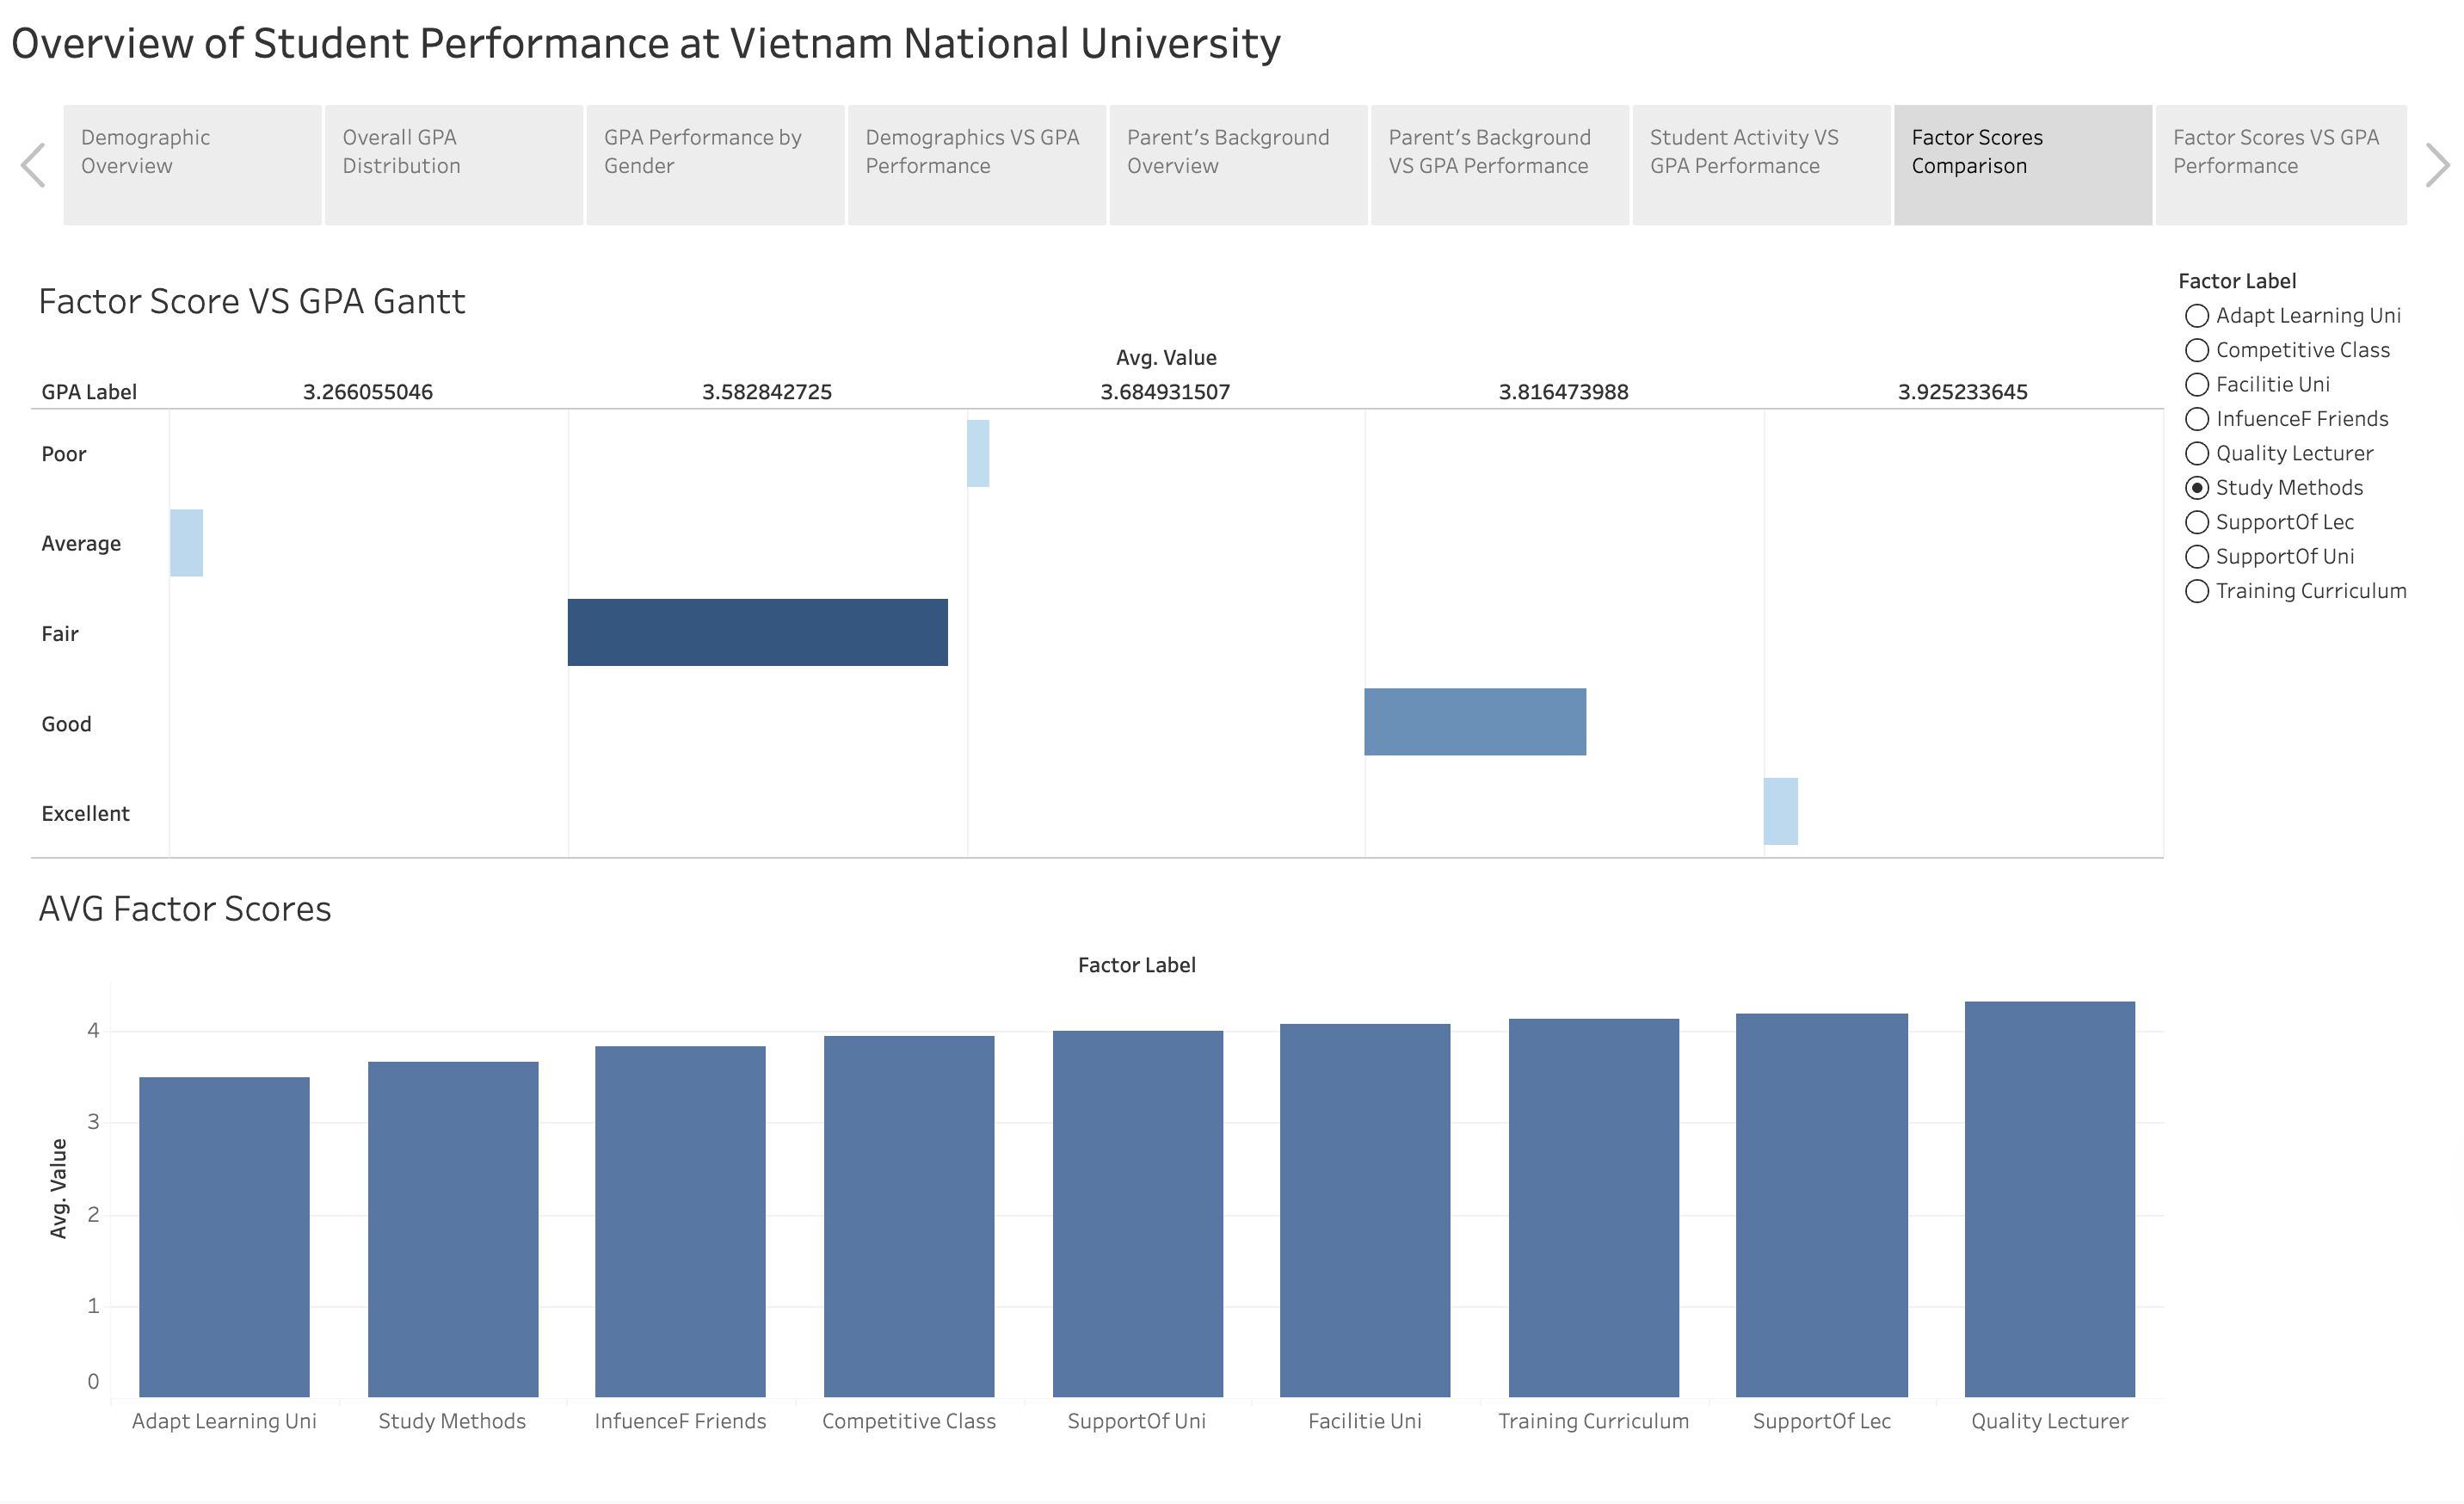

The dashboard page shown, as its layout file describes it:
{"tool":"tableau","page":{"name":"Factor Scores Comparison","canvas":[1000,1000],"units":"permille","ordinal":3},"visuals":[{"type":"worksheet","title":"Factor Score VS GPA Gantt","mark":"GanttBar","rows":["Calculation_0564434691989520"],"cols":["Pivot Field Values"],"box":[5.7,11.5,875.5,488.5]},{"type":"filter","title":"Factor Score VS GPA Gantt","param":"[federated.05jevnn1tfsfa413nsuds1rxwbeq].[none:Calculation_0564434713718805:nk]","box":[881.2,11.5,113.2,291.2]},{"type":"worksheet","title":"AVG Factor Scores","mark":"Automatic","rows":["Pivot Field Values"],"cols":["Calculation_0564434713718805"],"box":[5.7,500,875.5,488.5]}]}

Visuals, with their boxes on the dashboard's canvas, which has no fixed pixel size, in thousandths of its width and height (x1, y1, x2, y2). These are canvas units, not pixel positions in the 2464x1504 screenshot, which may show the page scaled, cropped or inside an application window:
"Factor Score VS GPA Gantt" worksheet (GanttBar marks): 6, 12, 881, 500
"Factor Score VS GPA Gantt" filter: 881, 12, 994, 303
"AVG Factor Scores" worksheet: 6, 500, 881, 988
